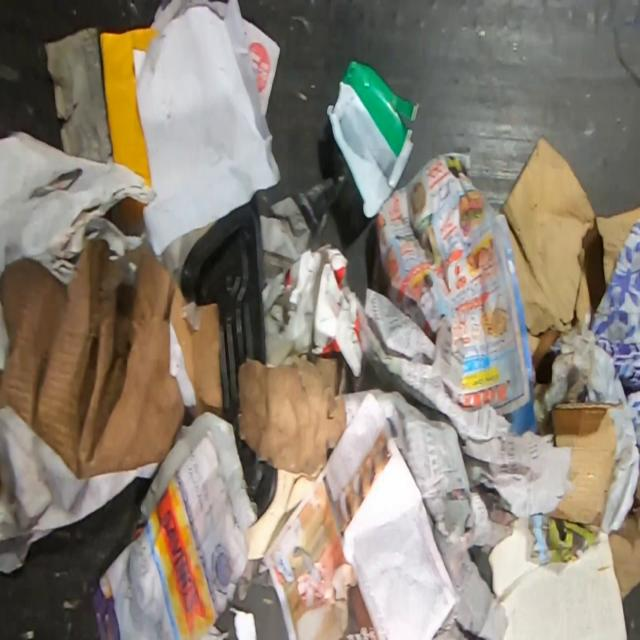cardboard: (1, 234, 223, 480), (501, 140, 605, 375), (239, 357, 345, 477), (547, 404, 622, 527), (596, 205, 640, 292), (610, 475, 640, 599)
rigid_plastic: (180, 198, 276, 521), (326, 60, 419, 218)
